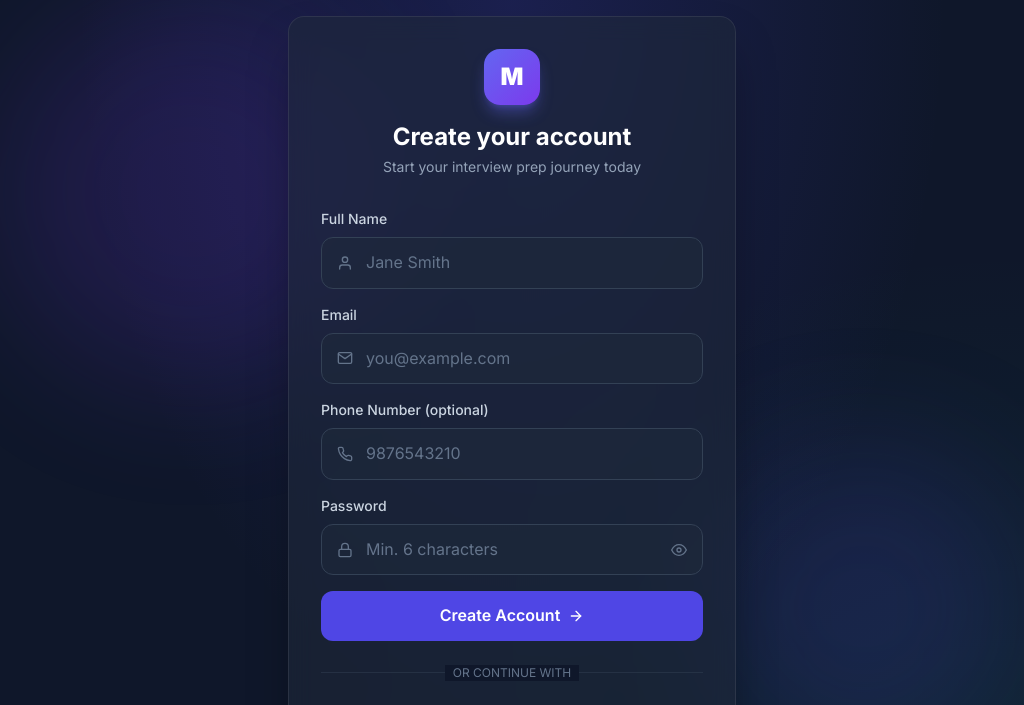
Test: Signup Page › shows error for invalid phone number
Type "Test User" into the field labelled "Full Name".
click(512, 263); type("Test User")  # box [321,237,703,289]
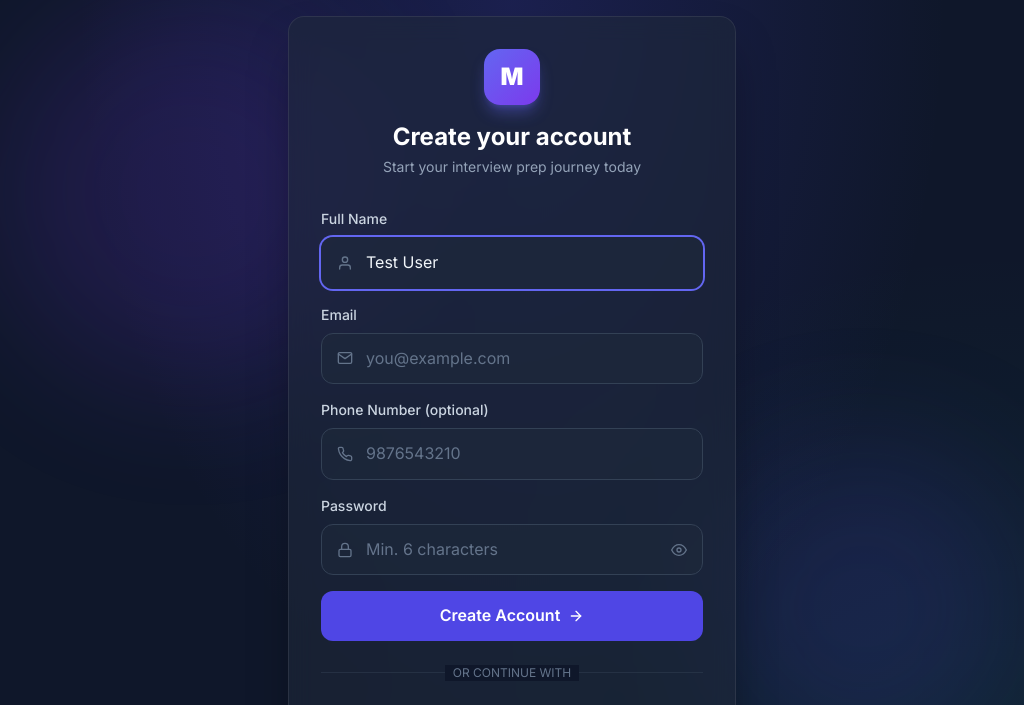
Type "test@email.com" into the field labelled "Email".
click(512, 358); type("test@email.com")  # box [321,333,703,384]
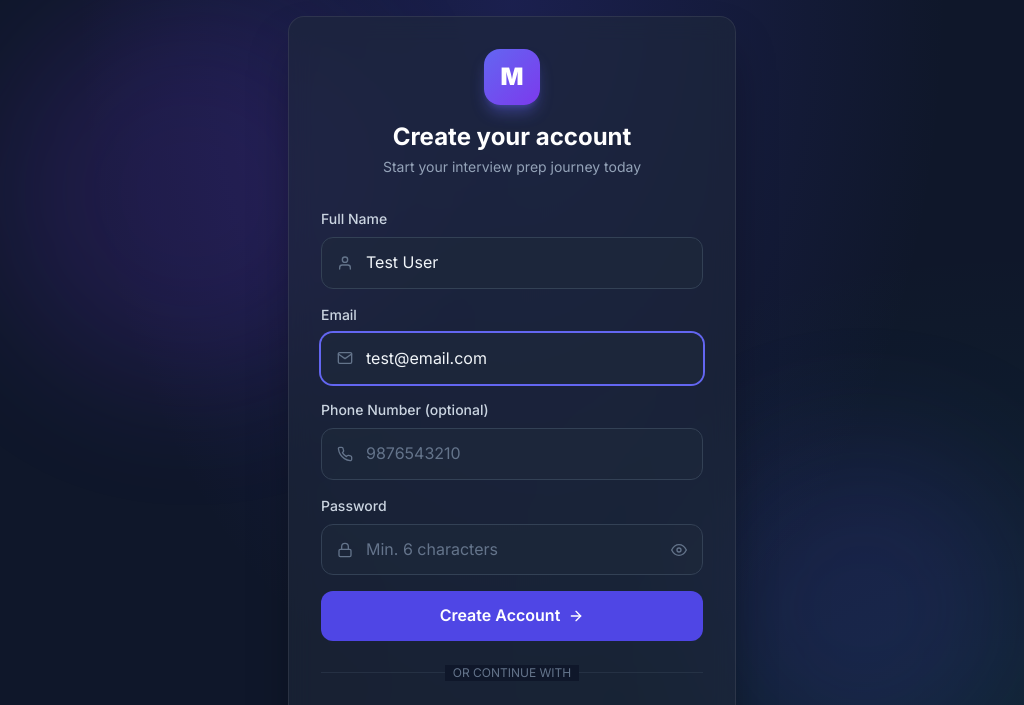
Type "password123" into the password field labelled "Password".
click(512, 550); type("password123")  # box [321,524,703,575]
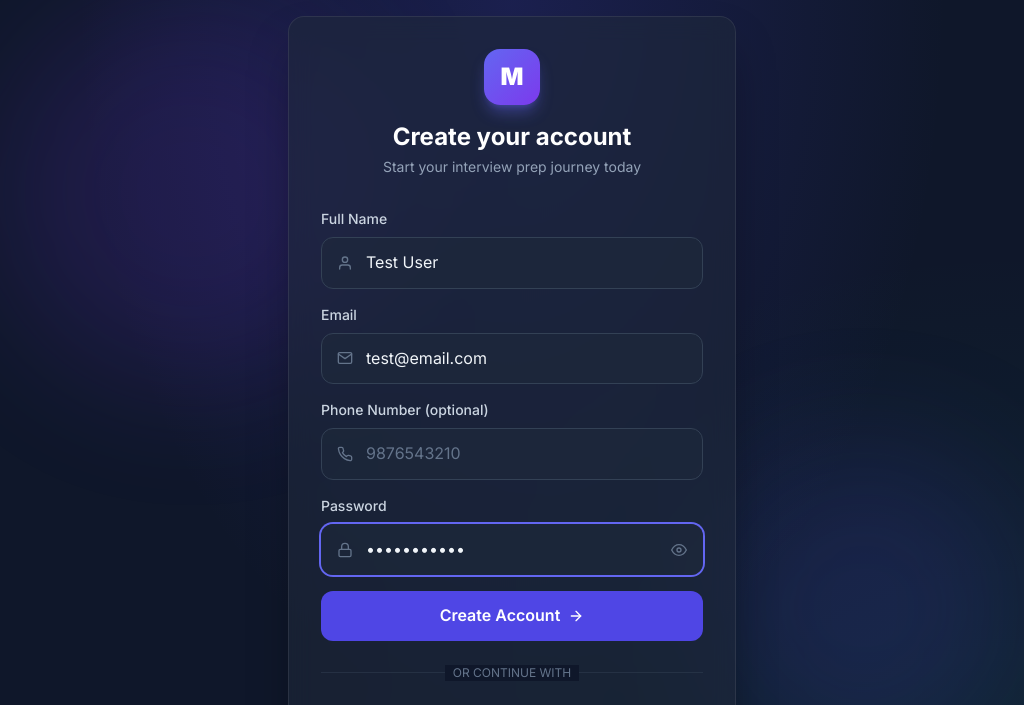
Type "12345" into the field labelled "Phone Number (optional)".
click(512, 454); type("12345")  # box [321,428,703,480]
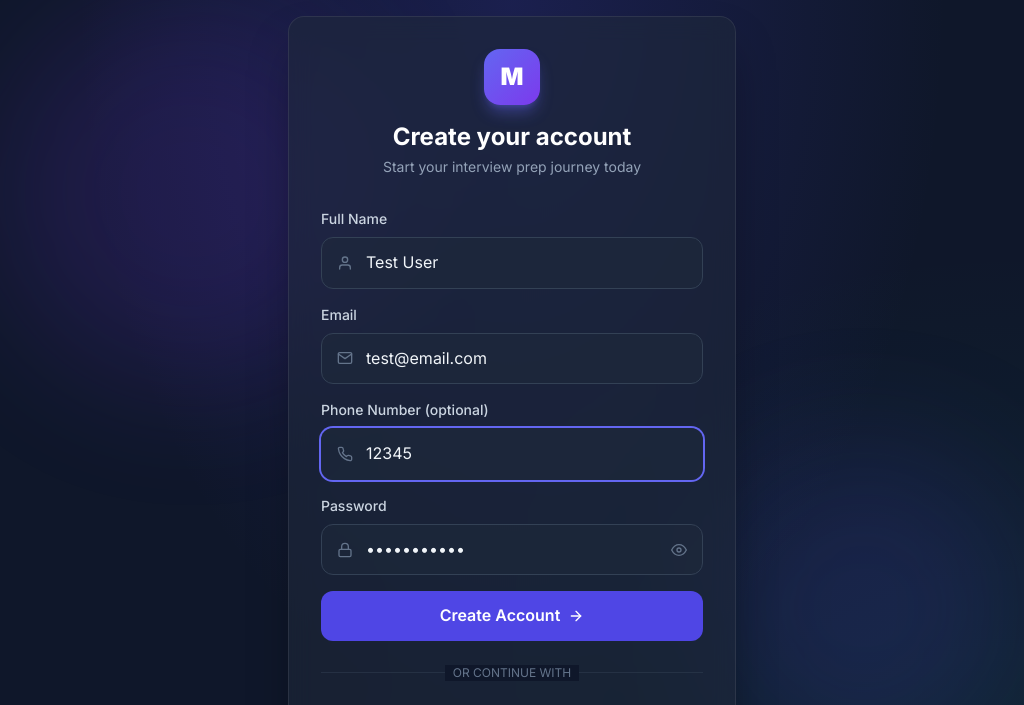
Click the button "Create Account".
click(512, 616)  # box [321,591,703,641]
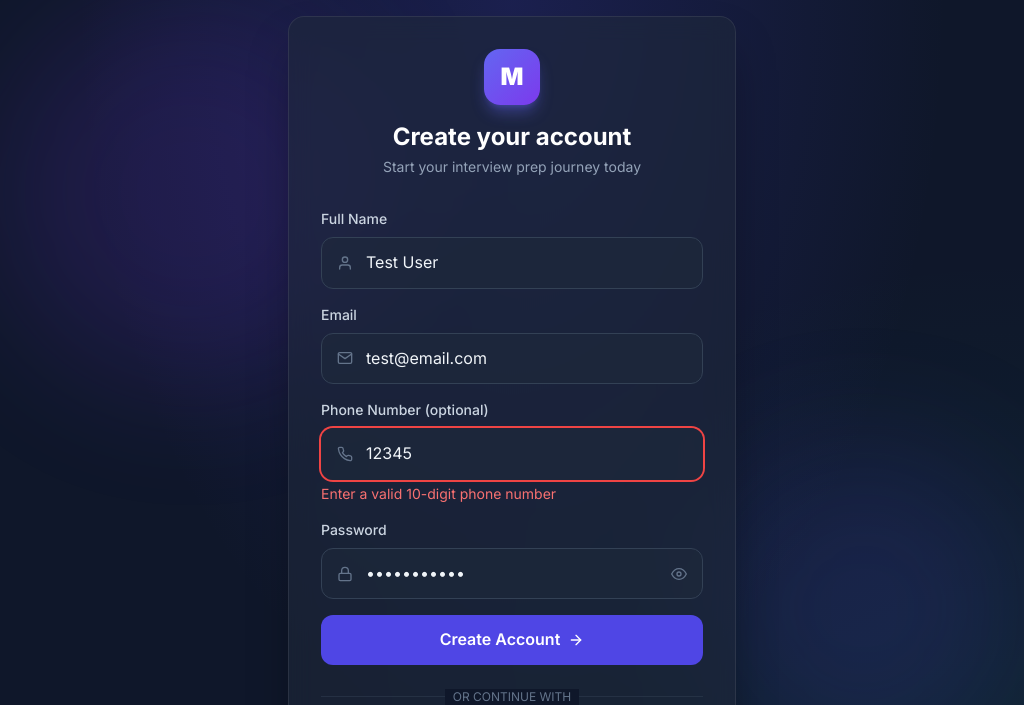
Check: the text "Enter a valid 10-digit phone number" is shown, box [321,485,556,502]
